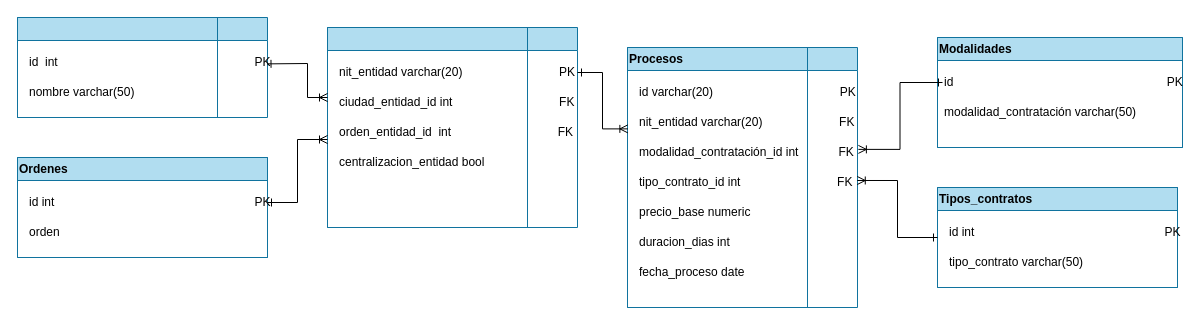
The diagram is 1201 pixels wide and 325 high, and some of its shapes have lost their labels. The shapes that lost their labels are listed below. From the top down, each one's box as (x1, y1, x2, y2) in pixels, then its label:
(16, 16, 268, 118): Ciudades
(326, 26, 578, 228): Entidades
